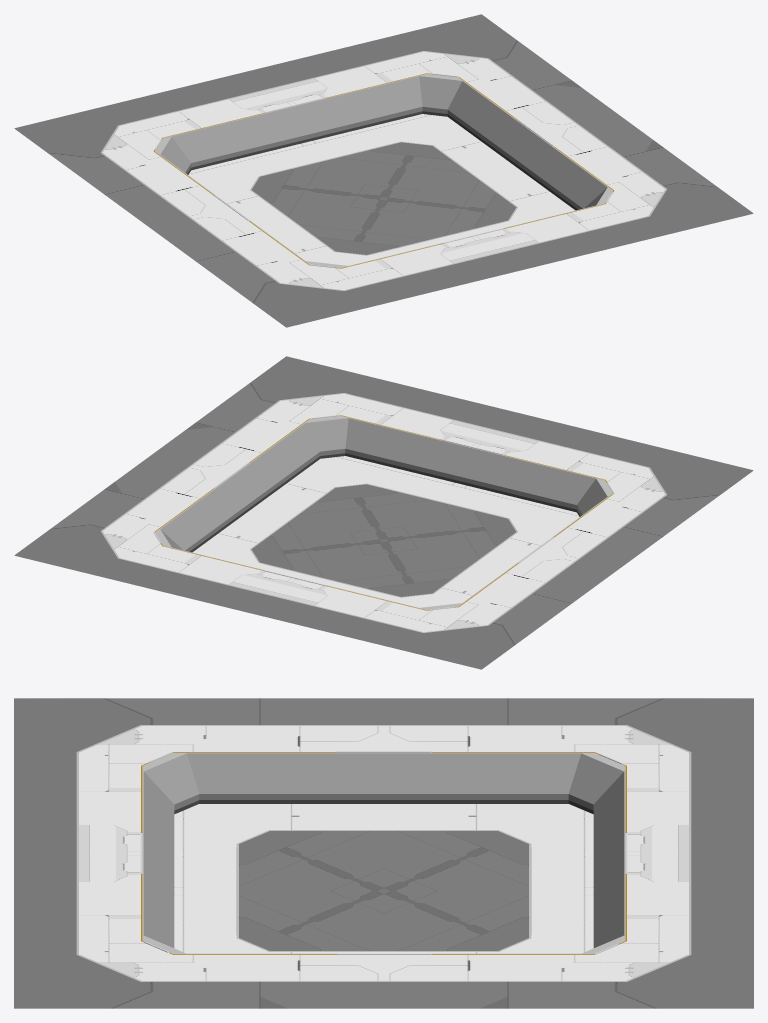
The model's file is SM_Floor_Interior_24x24_Lower_3.fbx.
3 renders of one model, top to bottom at view 1: azimuth 30°, elevation 25°; view 2: azimuth 150°, elevation 25°; view 3: azimuth 270°, elevation 25°, orthographic. The views are drawn at different scales.
Parts seen in each view (by area): view 1: SM_Floor_Interior_24x24_Lower_3; view 2: SM_Floor_Interior_24x24_Lower_3; view 3: SM_Floor_Interior_24x24_Lower_3.
Boxes of the visible parts, <box> form: SM_Floor_Interior_24x24_Lower_3: <box>14,14,753,327</box>; SM_Floor_Interior_24x24_Lower_3: <box>14,356,753,669</box>; SM_Floor_Interior_24x24_Lower_3: <box>14,698,753,1008</box>.
Bounding box in the file's own units: 2300 × 132 × 2320.
